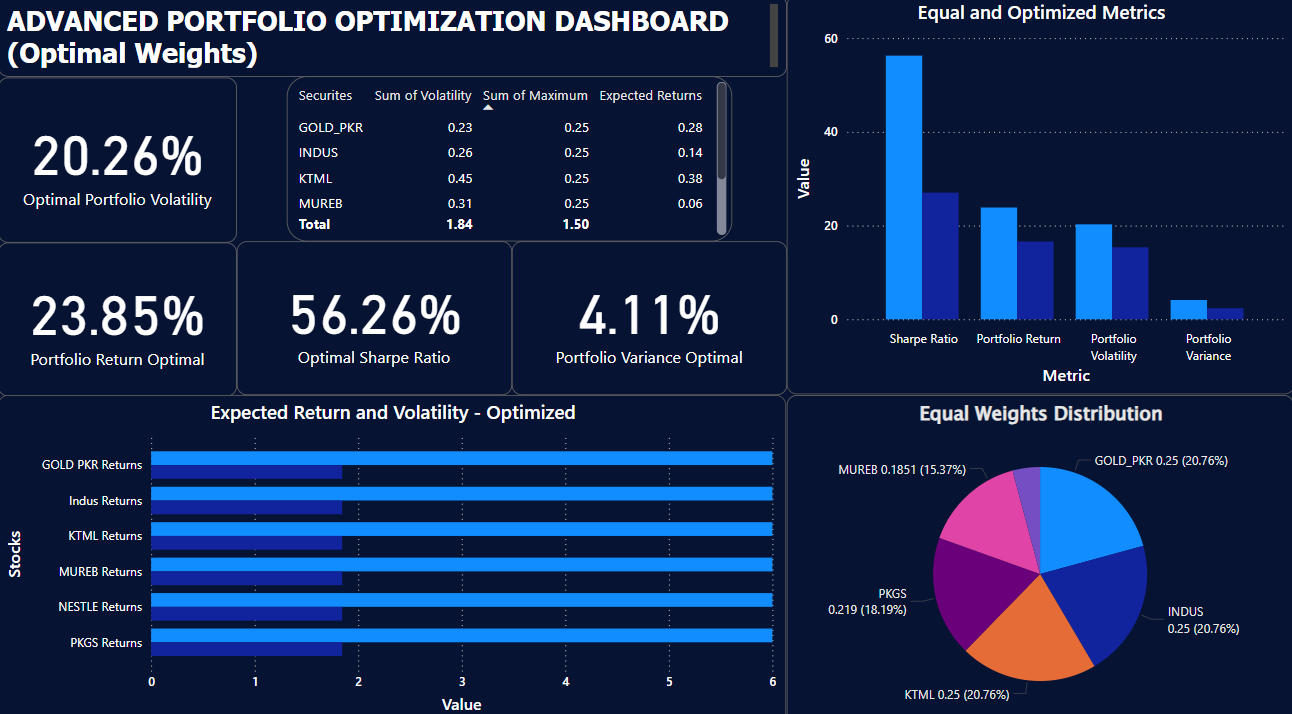

Layout of this report page (visuals, bound fields, positions):
{"tool":"powerbi","page":{"name":"Optimal Portfolio","canvas":[1280,720],"ordinal":1},"visuals":[{"type":"card","title":"EQUAL WEIGHT PORTFOLIO RETURN","fields":{"Values":["Optimal Weights.Portfolio Return Optimal"]},"box":[0,244.3,236,152.3],"z":0},{"type":"card","fields":{"Values":["Optimal Daily Covariance.Portfolio Variance Optimal"]},"box":[507.7,242.9,271.7,152.3],"z":1000},{"type":"card","fields":{"Values":["Optimal Daily Covariance.Optimal Portfolio Volatility"]},"box":[0,81,236,163.3],"z":2000},{"type":"card","fields":{"Values":["Optimal Daily Covariance.Optimal Sharpe Ratio"]},"box":[236,242.9,271.7,152.3],"z":3000},{"type":"textbox","box":[0,0,779.4,81],"z":4000},{"type":"pieChart","title":"Equal Weights Distribution","fields":{"Y":["Sum(Optimal Weights.Weight)"],"Category":["Optimal Weights.Securites"]},"box":[779.4,395.2,500.9,325.2],"z":5000},{"type":"tableEx","fields":{"Values":["Optimal Weights.Securites","Sum(Optimal Weights.Volatility)","Sum(Optimal Weights.Maximum)","Optimal Weights.Expected Returns"]},"box":[285,80.9,440.4,163],"z":6000},{"type":"clusteredColumnChart","title":"Equal and Optimized Metrics","fields":{"Category":["Comparison Table.Metric"],"Y":["Sum(Comparison Table.Optimized)","Sum(Comparison Table.Equal)"]},"box":[778.7,0,501.3,394.3],"z":7000},{"type":"clusteredBarChart","title":"Expected Return and Volatility - Optimized ","fields":{"Category":["Returns Table.Stocks"],"Y":["CountNonNull(Optimal Weights.Expected Returns)","Sum(Optimal Weights.Volatility)"]},"box":[0,395.6,778.7,324.7],"z":8000}]}

Visuals, with their boxes in screenshot pixels (x1, y1, x2, y2), scaled from the page's 1280x720 canvas onto the 1292x714 screenshot:
"EQUAL WEIGHT PORTFOLIO RETURN" card: (left=0, top=242, right=238, bottom=393)
card - Optimal Daily Covariance.Portfolio Variance Optimal: (left=512, top=241, right=787, bottom=392)
card - Optimal Daily Covariance.Optimal Portfolio Volatility: (left=0, top=80, right=238, bottom=242)
card - Optimal Daily Covariance.Optimal Sharpe Ratio: (left=238, top=241, right=512, bottom=392)
textbox: (left=0, top=0, right=787, bottom=80)
"Equal Weights Distribution" pieChart: (left=787, top=392, right=1291, bottom=713)
tableEx - Optimal Weights.Securites x Sum(Optimal Weights.Volatility): (left=288, top=80, right=732, bottom=242)
"Equal and Optimized Metrics" clusteredColumnChart: (left=786, top=0, right=1291, bottom=391)
"Expected Return and Volatility - Optimized " clusteredBarChart: (left=0, top=392, right=786, bottom=713)
